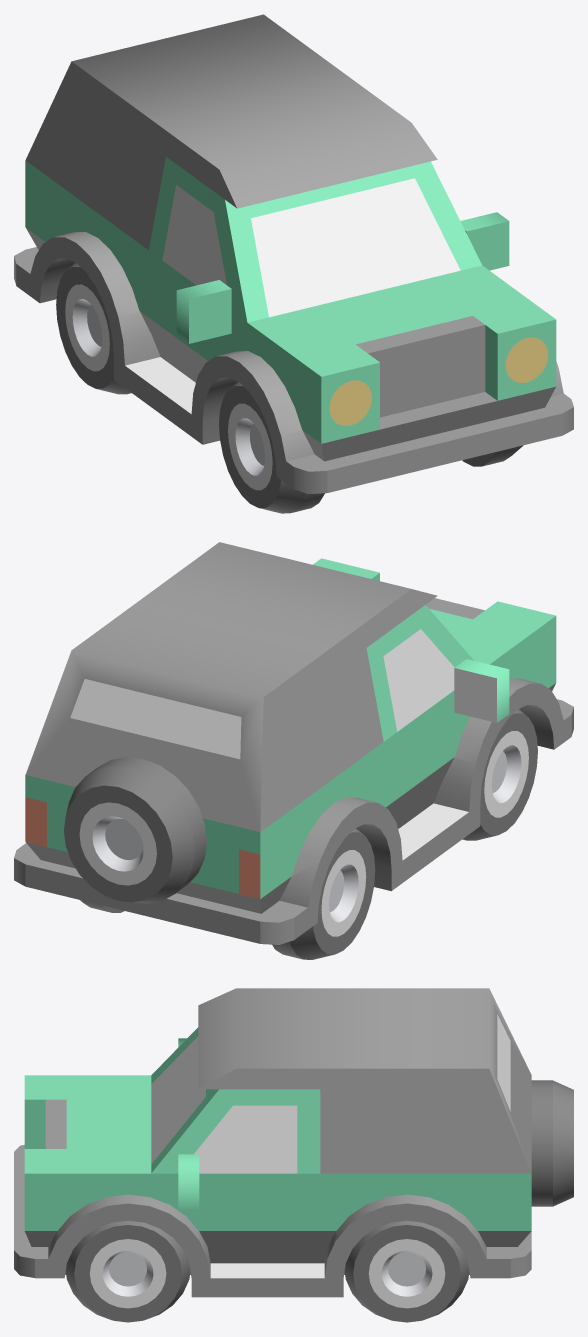
Rendered from suv.fbx.
3 views of the same model, one above another, from view 1: azimuth 30°, elevation 25°; view 2: azimuth 150°, elevation 25°; view 3: azimuth 270°, elevation 25° (orthographic). The views are drawn at different scales.
Parts seen in each view (by area): view 1: bodyShape; view 2: bodyShape; view 3: bodyShape.
Boxes of the visible parts, x1=… form: bodyShape: x1=14, y1=14, x2=573, y2=513; bodyShape: x1=14, y1=542, x2=573, y2=959; bodyShape: x1=14, y1=988, x2=573, y2=1322.
Bounding box in the file's own units: 1.5 × 1.3 × 2.65.
